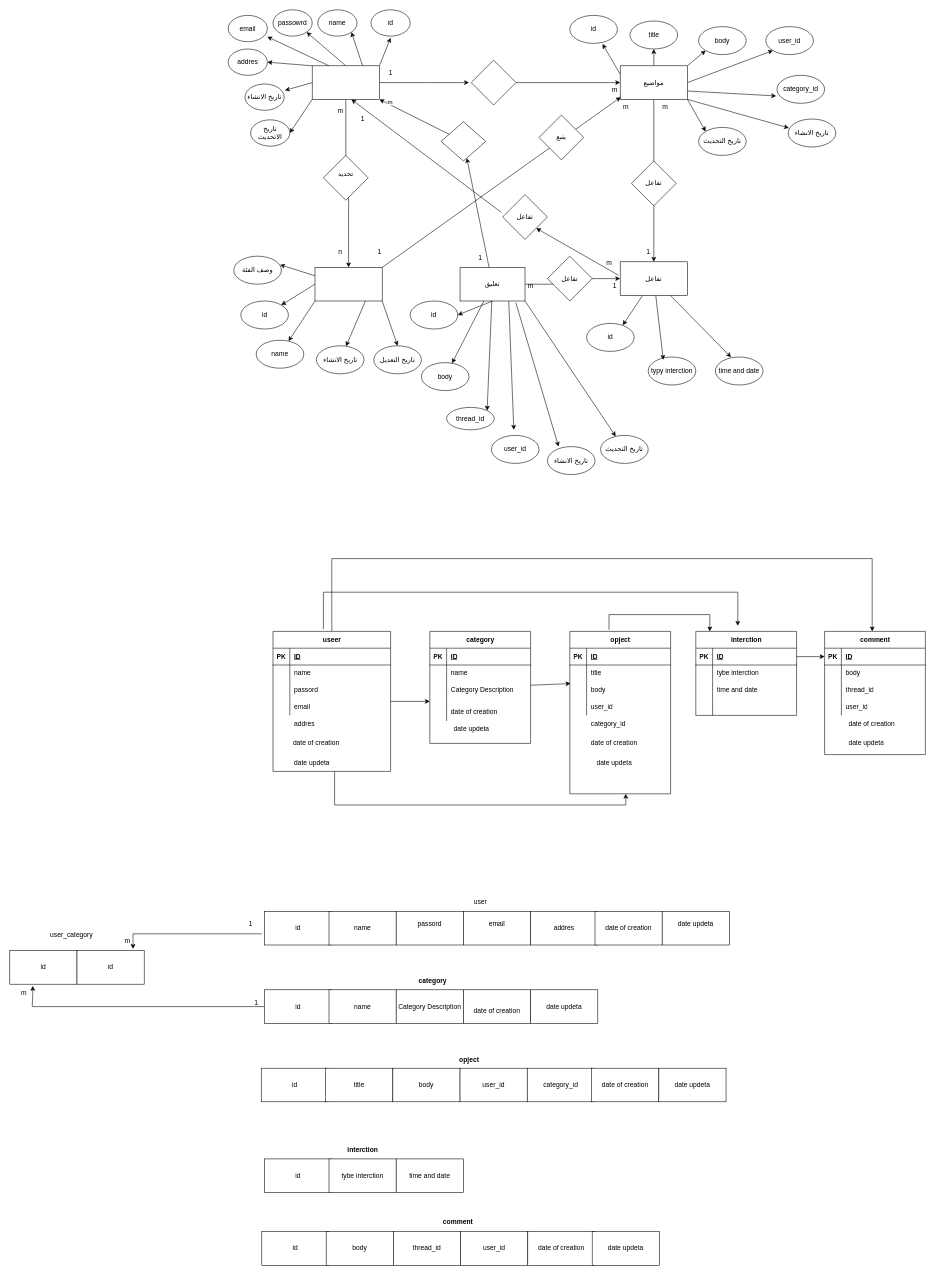
The diagram is 935 pixels wide and 1275 high, and some of its shapes have lost their labels. The centre of each missing label's shape, as x and y in pixels:
"coment" goes at (463,141).
"فىات" goes at (348,284).
"مستخدم" goes at (345,82).
"نشر" goes at (493,82).
